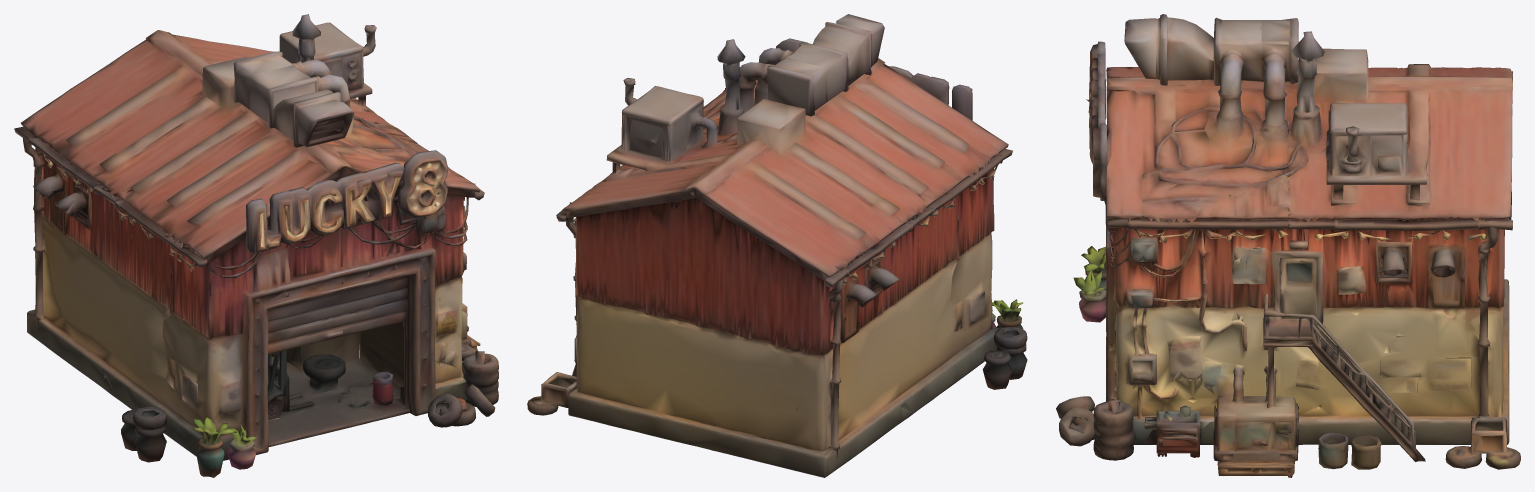
Rendered from garage_lucky8.glb.
3 views of the same model, side by side, from view 1: azimuth 30°, elevation 25°; view 2: azimuth 150°, elevation 25°; view 3: azimuth 270°, elevation 25° (orthographic). The views are drawn at different scales.
Visible parts, largest first — view 1: tripo_part_0, tripo_part_1, tripo_part_4, tripo_part_11, tripo_part_12, tripo_part_5, tripo_part_13, tripo_part_8, tripo_part_17, tripo_part_23; view 2: tripo_part_0, tripo_part_1, tripo_part_12, tripo_part_4, tripo_part_6, tripo_part_8; view 3: tripo_part_1, tripo_part_0, tripo_part_3, tripo_part_2, tripo_part_5, tripo_part_6, tripo_part_7, tripo_part_18, tripo_part_4, tripo_part_17, tripo_part_11, tripo_part_19 (+4 smaller).
Part boxes in pixels (left/top/right/bottom): tripo_part_0: left=23, top=138, right=468, bottom=477; tripo_part_1: left=14, top=14, right=484, bottom=267; tripo_part_4: left=246, top=162, right=404, bottom=253; tripo_part_11: left=267, top=150, right=448, bottom=227; tripo_part_12: left=121, top=406, right=166, bottom=462; tripo_part_5: left=457, top=350, right=498, bottom=406; tripo_part_13: left=428, top=394, right=475, bottom=427; tripo_part_8: left=55, top=179, right=91, bottom=229; tripo_part_17: left=227, top=424, right=257, bottom=469; tripo_part_23: left=369, top=371, right=393, bottom=405; tripo_part_0: left=565, top=168, right=1023, bottom=477; tripo_part_1: left=556, top=14, right=1012, bottom=286; tripo_part_12: left=982, top=327, right=1027, bottom=389; tripo_part_4: left=888, top=66, right=972, bottom=120; tripo_part_6: left=527, top=372, right=577, bottom=415; tripo_part_8: left=864, top=258, right=898, bottom=302; tripo_part_1: left=1106, top=14, right=1512, bottom=254; tripo_part_0: left=1081, top=201, right=1509, bottom=444; tripo_part_3: left=1263, top=229, right=1425, bottom=461; tripo_part_2: left=1213, top=364, right=1298, bottom=477; tripo_part_5: left=1093, top=399, right=1156, bottom=460; tripo_part_6: left=1445, top=415, right=1520, bottom=469; tripo_part_7: left=1144, top=405, right=1214, bottom=457; tripo_part_18: left=1230, top=229, right=1271, bottom=292; tripo_part_4: left=1086, top=41, right=1105, bottom=163; tripo_part_17: left=1073, top=270, right=1106, bottom=322; tripo_part_11: left=1093, top=123, right=1111, bottom=201; tripo_part_19: left=1059, top=406, right=1095, bottom=446.
Size of the model in its own units: 0.9831 by 0.8765 by 0.9742.
1 material, 1 textured.
